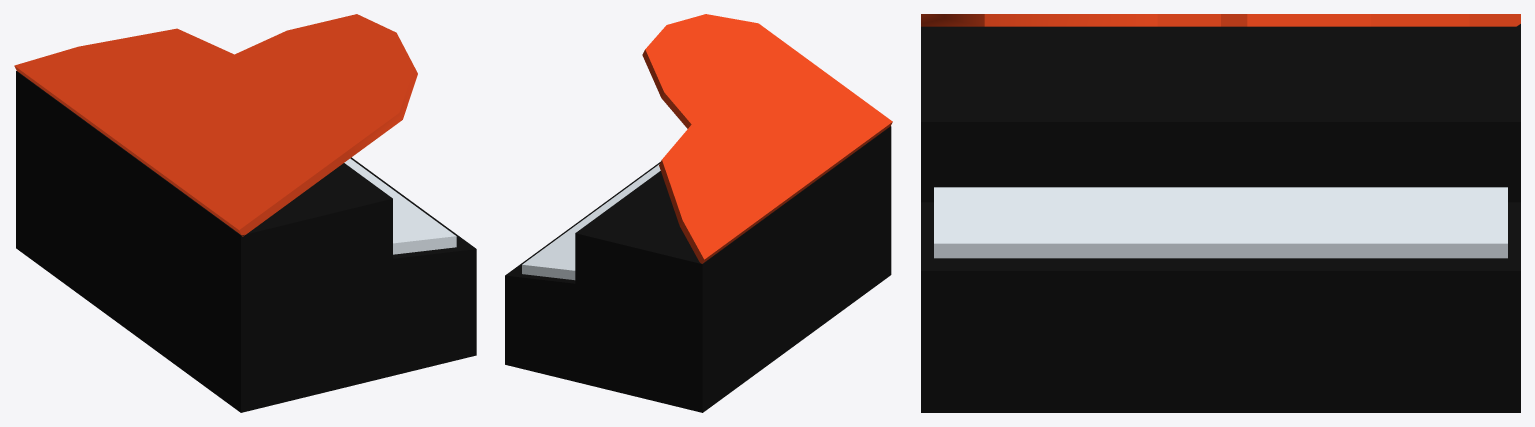
File: piano.FBX
3 renders of one model, left to right at view 1: azimuth 30°, elevation 25°; view 2: azimuth 150°, elevation 25°; view 3: azimuth 270°, elevation 25°, orthographic. The views are drawn at different scales.
Visible parts, largest first — view 1: Box1209; view 2: Box1209; view 3: Box1209.
Part boxes in pixels (box(x1,y1,x2,y2)): Box1209: box(14, 14, 476, 412); Box1209: box(505, 14, 892, 412); Box1209: box(921, 14, 1520, 412).
Size of the model in its own units: 1.34 by 1.55 by 2.2.
